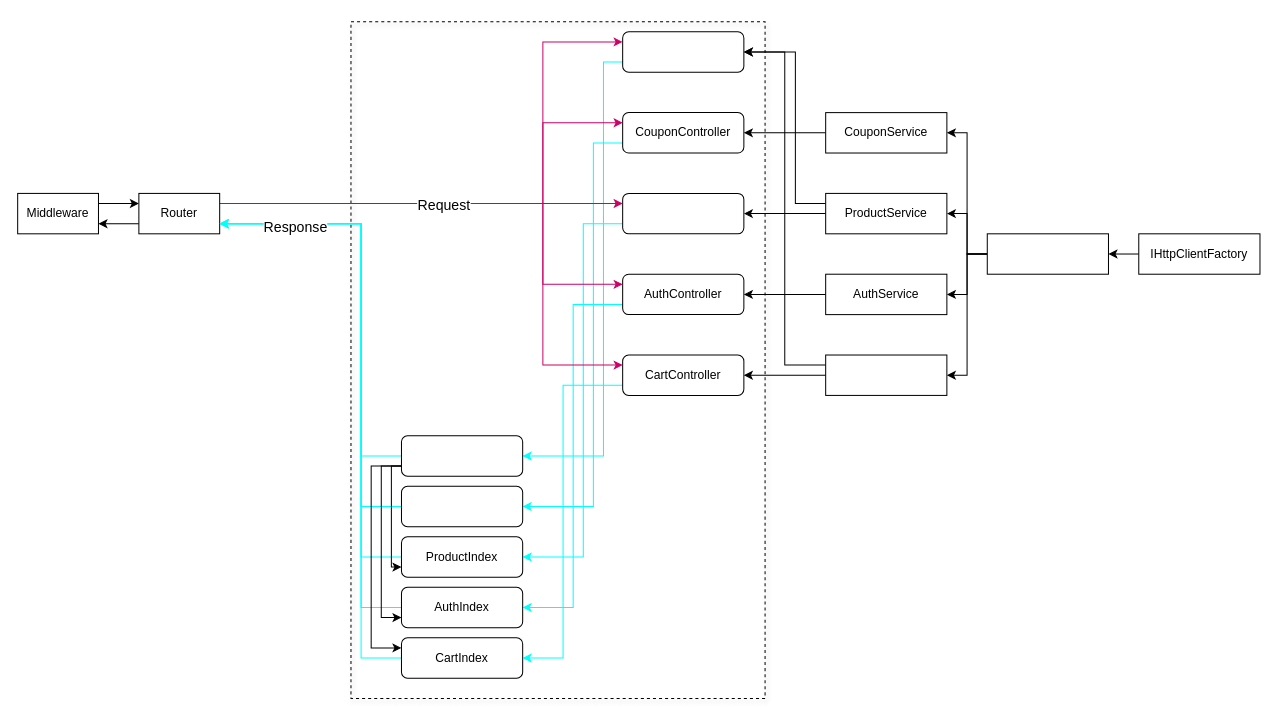
The diagram is 1278 pixels wide and 723 high, and some of its shapes have lost their labels. Here are the shapes that lost their labels. From the top down, the centre of each, then its label:
At pixel 683 51: "HomeController".
At pixel 683 213: "ProductController".
At pixel 1047 253: "BaseService".
At pixel 886 374: "CartService".
At pixel 461 455: "HomeIndex".
At pixel 461 506: "CouponIndex".
